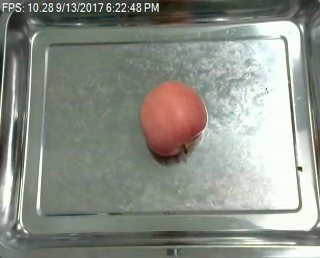Apple: (135, 78, 211, 156)
